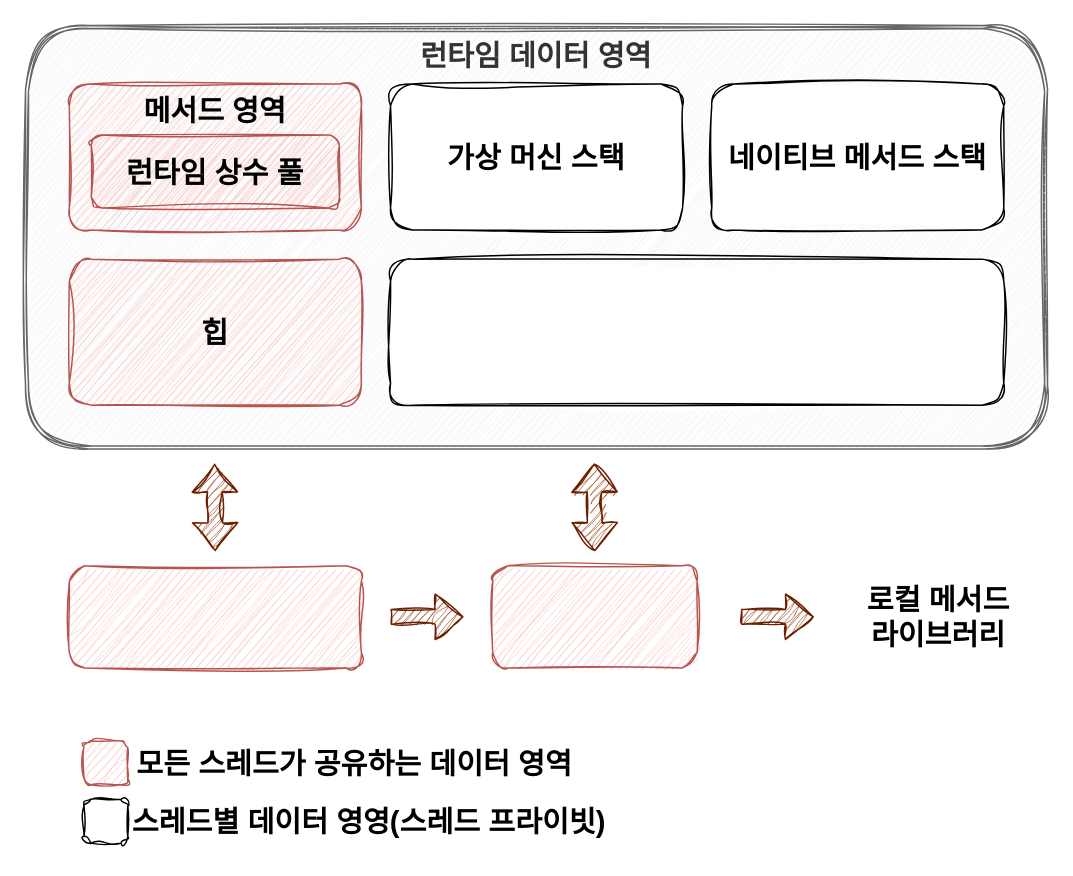
This 1073x876 diagram has some shape labels left out. The shapes that lost their labels are listed below. From the top down, each one's centre as x and y in pixels, then its label:
At point 696,331: "프로그램 카운터(PC) 레지스터".
At point 214,616: "실행 엔진".
At point 594,616: "네이티브 라이브러리 인터페이스".
